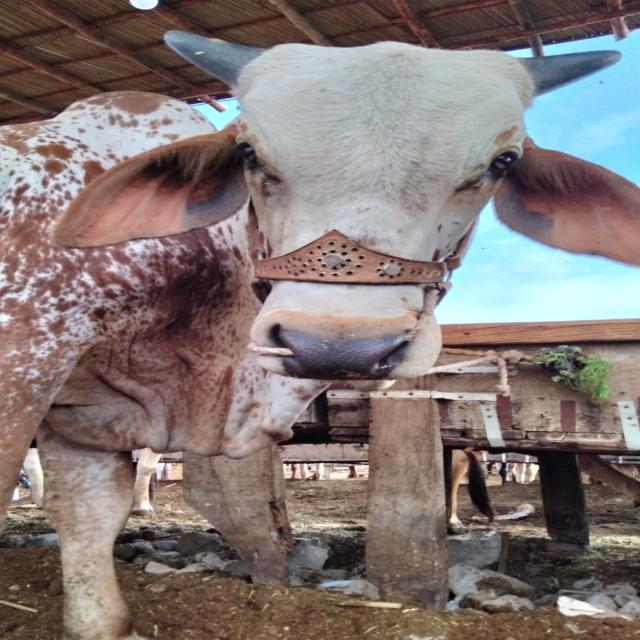muzzles: (250, 306, 425, 386)
